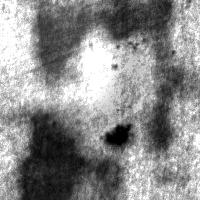patches: (6, 0, 156, 150), (30, 1, 183, 89), (4, 5, 112, 113), (13, 136, 123, 200), (20, 108, 85, 199), (145, 64, 185, 153), (101, 121, 133, 147), (94, 158, 121, 188)
